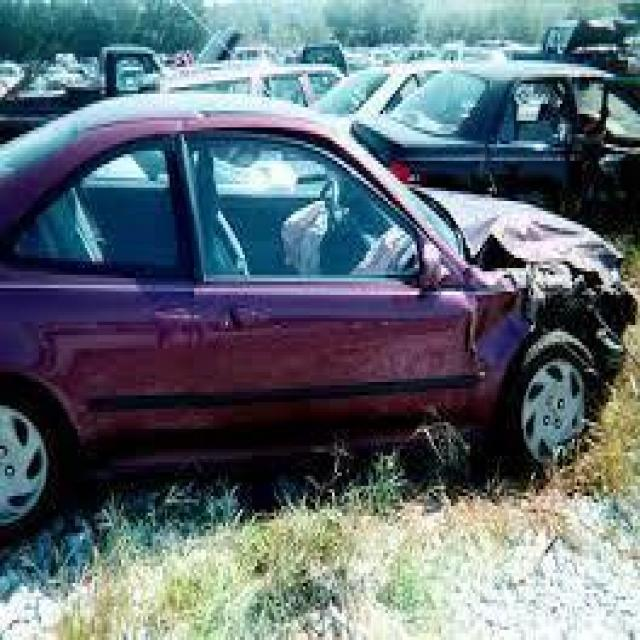damaged: (463, 218, 638, 378)
